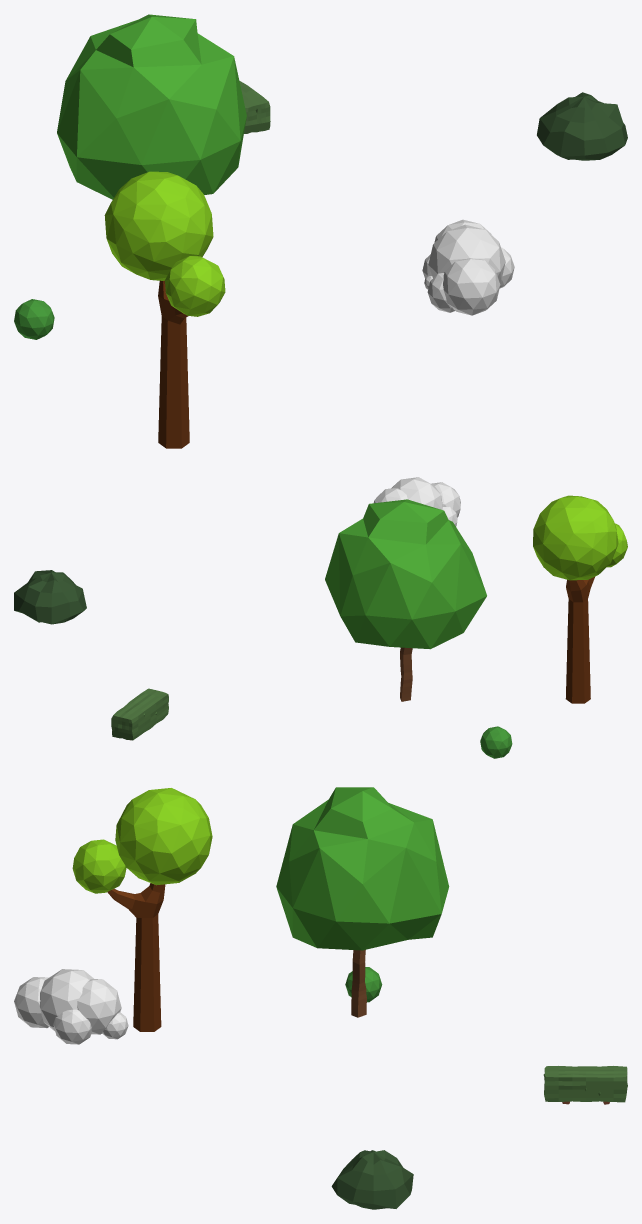
Rendered from squarebush.fbx.
The picture shows the model from 3 angles, top to bottom: view 1: azimuth 30°, elevation 25°; view 2: azimuth 150°, elevation 25°; view 3: azimuth 270°, elevation 25°; orthographic projection. The views are drawn at different scales.
Parts seen in each view (by area): view 1: maple tree, Icosphere_Icosphere.002, bush, Cylinder.014, Icosphere.001_Icosphere.003, Icosphere.003, Icosphere.010, Icosphere.025, short hedge; view 2: maple tree, Icosphere_Icosphere.002, bush, Cylinder.014, short hedge, Icosphere.010, Icosphere.025, Icosphere.003; view 3: maple tree, Icosphere_Icosphere.002, Cylinder.014, bush, short hedge, Icosphere.001_Icosphere.003, Icosphere.010, Icosphere.007, Icosphere.003, Icosphere.006, Icosphere.025.
Boxes of the visible parts, left/top/right/bottom form: maple tree: left=57, top=14, right=246, bottom=199; Icosphere_Icosphere.002: left=104, top=171, right=213, bottom=280; bush: left=537, top=92, right=627, bottom=160; Cylinder.014: left=158, top=280, right=189, bottom=448; Icosphere.001_Icosphere.003: left=165, top=256, right=225, bottom=316; Icosphere.003: left=443, top=258, right=500, bottom=315; Icosphere.010: left=428, top=224, right=505, bottom=282; Icosphere.025: left=14, top=299, right=54, bottom=339; short hedge: left=239, top=81, right=270, bottom=133; maple tree: left=325, top=499, right=486, bottom=701; Icosphere_Icosphere.002: left=533, top=495, right=618, bottom=580; bush: left=14, top=570, right=86, bottom=624; Cylinder.014: left=565, top=577, right=594, bottom=703; short hedge: left=111, top=688, right=168, bottom=740; Icosphere.010: left=391, top=477, right=442, bottom=509; Icosphere.025: left=480, top=726, right=512, bottom=758; Icosphere.003: left=431, top=482, right=460, bottom=517; maple tree: left=276, top=787, right=449, bottom=1017; Icosphere_Icosphere.002: left=115, top=788, right=212, bottom=885; Cylinder.014: left=107, top=883, right=165, bottom=1031; bush: left=331, top=1150, right=413, bottom=1209; short hedge: left=543, top=1066, right=627, bottom=1104; Icosphere.001_Icosphere.003: left=72, top=839, right=126, bottom=893; Icosphere.010: left=40, top=969, right=93, bottom=1031; Icosphere.007: left=77, top=979, right=121, bottom=1034; Icosphere.003: left=14, top=977, right=48, bottom=1028; Icosphere.006: left=53, top=1009, right=91, bottom=1044; Icosphere.025: left=345, top=967, right=382, bottom=1002.
Size of the model in its own units: 2865 by 1358 by 2710.
